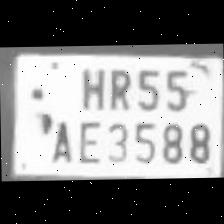3: (100, 116, 128, 164)
5: (130, 64, 160, 111), (160, 66, 190, 110), (128, 117, 156, 164)
8: (156, 117, 184, 165), (184, 118, 212, 165)
A: (46, 114, 72, 164)
E: (74, 116, 102, 163)
H: (74, 62, 105, 110)
R: (104, 64, 132, 112)
